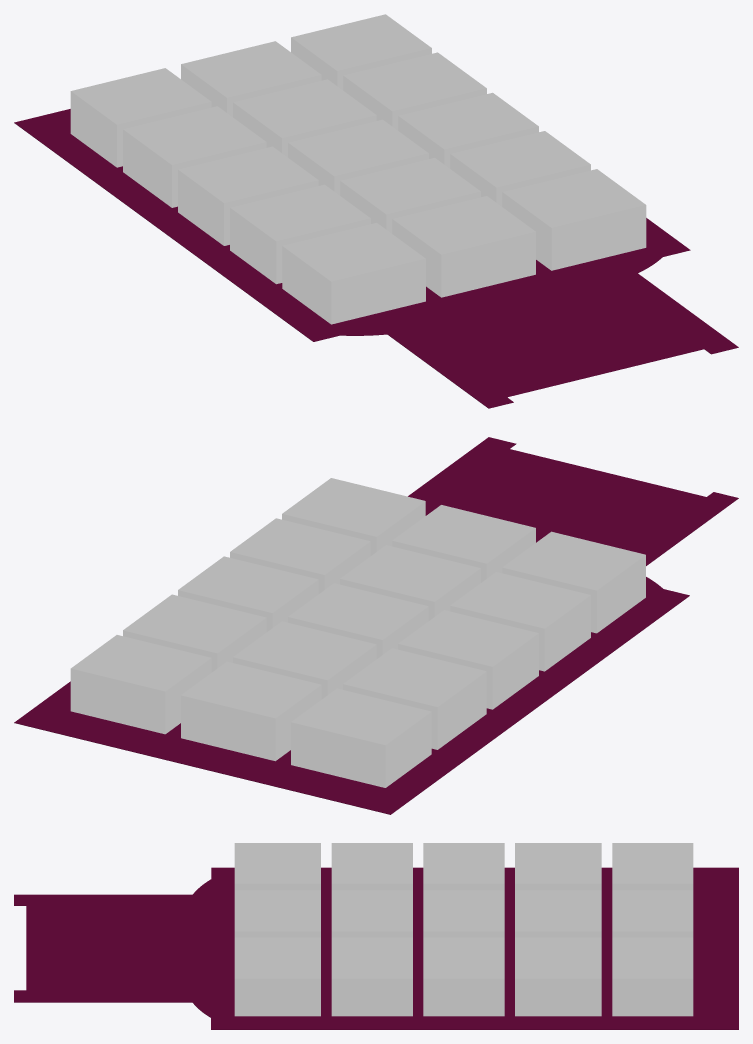
File: njc-l2-hall-v3-11-4.glb
The picture shows the model from 3 angles, top to bottom: view 1: azimuth 30°, elevation 25°; view 2: azimuth 150°, elevation 25°; view 3: azimuth 270°, elevation 25°; orthographic projection. The views are drawn at different scales.
Visible parts, largest first — view 1: Base, H3, H1, H2, H12, H15, H6, H9, H10, H11, H13, H8 (+4 smaller); view 2: Base, H15, H13, H14, H12, H3, H9, H6, H1, H10, H11, H2 (+4 smaller); view 3: Base, H10, H1, H7, H13, H4, H2, H11, H12, H3, H14, H5 (+4 smaller).
Part boxes in pixels (x1,y1,x2,y2): Base: (14,109,738,408); H3: (282,222,425,324); H1: (502,169,646,270); H2: (392,196,535,297); H12: (123,106,266,207); H15: (70,68,211,167); H6: (230,184,370,284); H9: (178,146,318,245); H10: (343,52,486,130); H11: (233,79,376,157); H13: (291,14,431,90); H8: (288,119,428,195); Base: (14,437,738,814); H15: (291,688,431,787); H13: (70,635,211,734); H14: (181,661,321,761); H12: (343,648,486,749); H3: (502,531,645,633); H9: (398,610,538,709); H6: (450,572,590,671); H1: (282,478,425,555); H10: (123,594,266,672); H11: (233,621,376,699); H2: (392,505,535,582); Base: (14,867,738,1029); H10: (515,937,601,1016); H1: (234,937,320,1016); H7: (423,937,504,1016); H13: (612,937,693,1016); H4: (331,937,412,1016); H2: (234,890,320,937); H11: (515,890,601,937); H12: (515,843,601,890); H3: (234,843,320,890); H14: (612,890,693,937); H5: (331,890,412,937).
Size of the model in its own units: 1.83 by 0.2 by 3.45.
